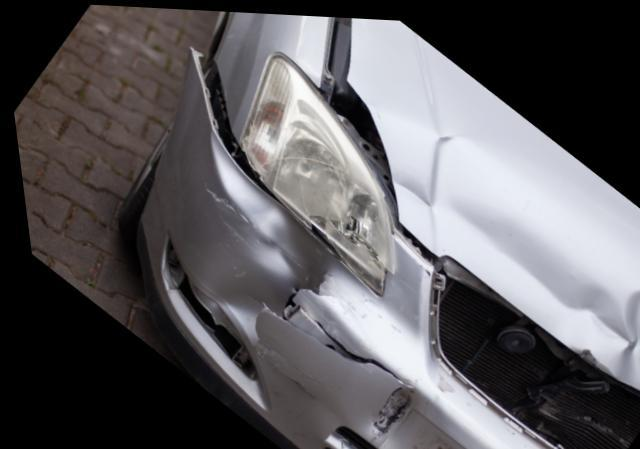crack: (276, 289, 408, 387)
dent: (392, 150, 640, 382), (201, 136, 327, 316)
dislocated part: (129, 47, 423, 449)
lamp broken: (238, 51, 386, 291)
no part: (420, 255, 640, 449)
